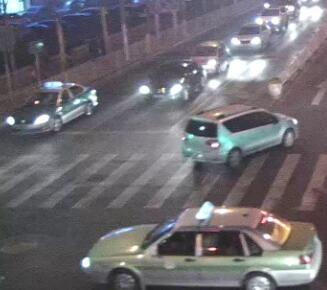car: (80, 200, 320, 286), (180, 101, 301, 166), (4, 78, 101, 135), (136, 56, 205, 109), (187, 39, 231, 76), (228, 22, 276, 54), (252, 4, 289, 34)
